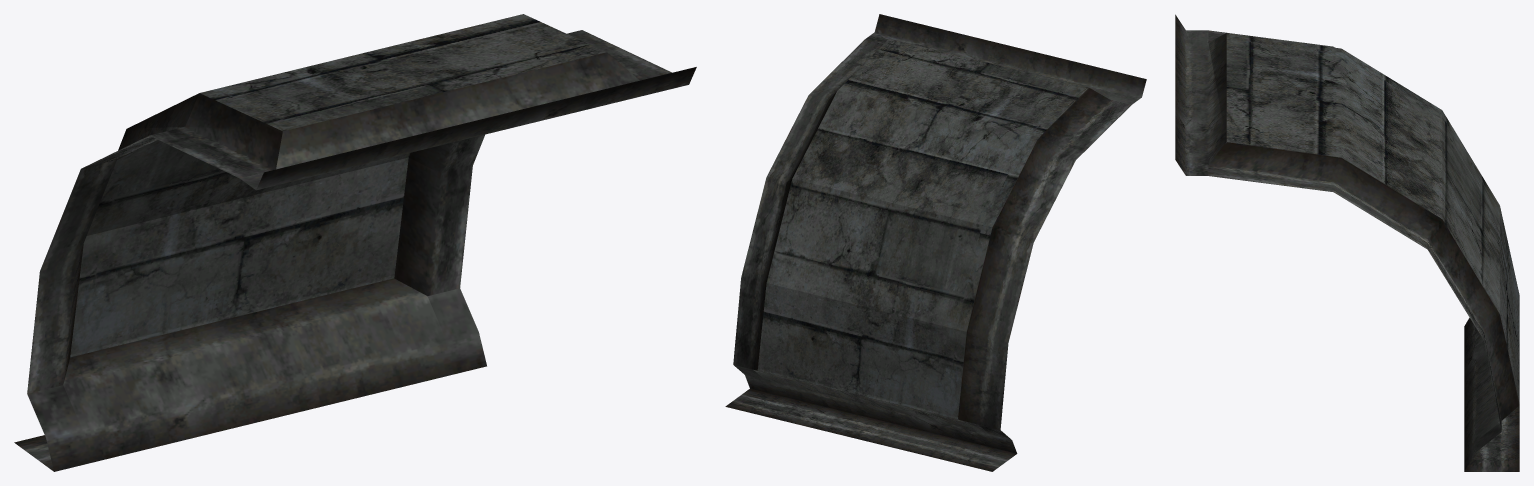
File: concave_short_flat.dae
3 views of the same model, side by side, from view 1: azimuth 30°, elevation 25°; view 2: azimuth 150°, elevation 25°; view 3: azimuth 270°, elevation 25° (orthographic). The views are drawn at different scales.
Parts seen in each view (by area): view 1: polySurface1, polySurface10; view 2: polySurface10, polySurface1; view 3: polySurface10, polySurface1.
Boxes of the visible parts, <box> form: polySurface1: <box>14,30,696,471</box>; polySurface10: <box>70,14,606,357</box>; polySurface10: <box>757,39,1088,419</box>; polySurface1: <box>725,14,1146,471</box>; polySurface10: <box>1226,33,1519,403</box>; polySurface1: <box>1175,14,1519,471</box>.
Bounding box in the file's own units: 2 × 2 × 2.
